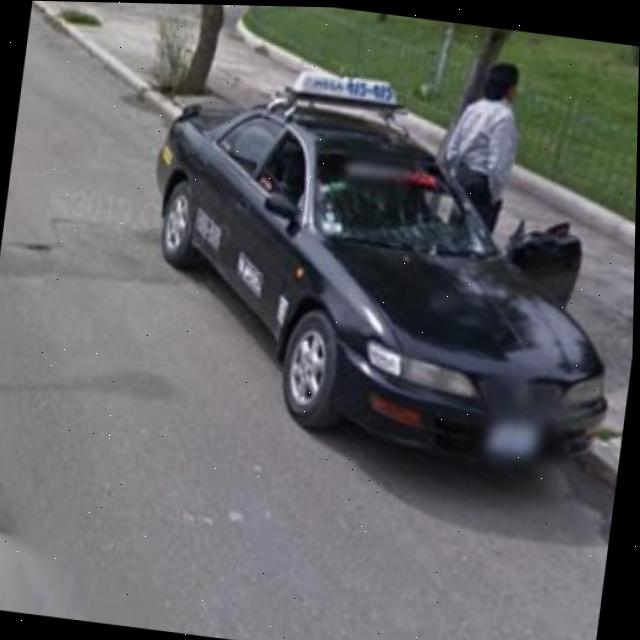vehicle: (139, 12, 640, 481)
